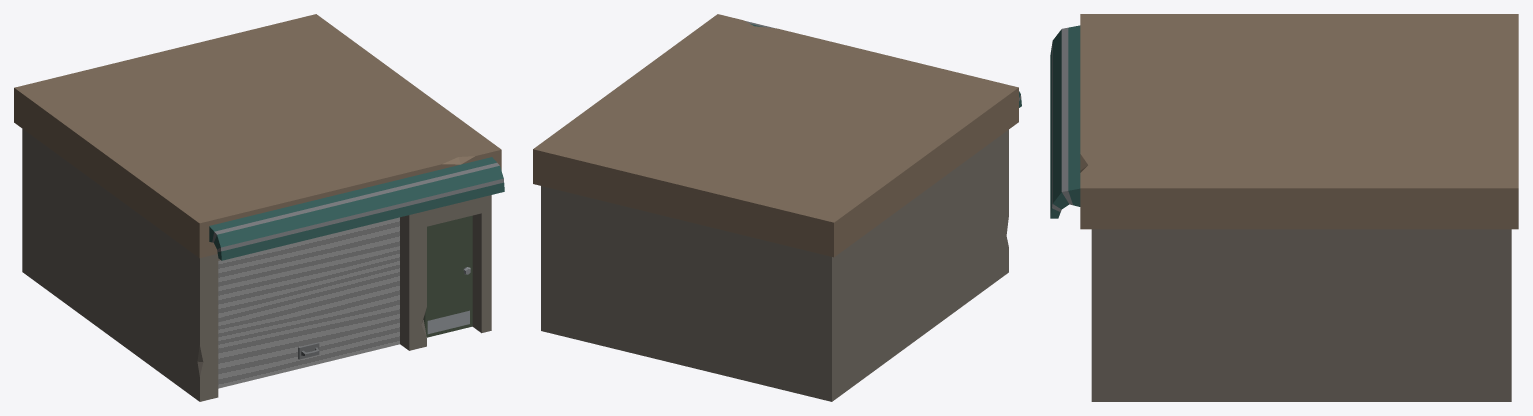
The model's file is shop_06.glb.
3 views of the same model, side by side, from view 1: azimuth 30°, elevation 25°; view 2: azimuth 150°, elevation 25°; view 3: azimuth 270°, elevation 25° (orthographic). The views are drawn at different scales.
Visible parts, largest first — view 1: SM_Bld_Shop_06; view 2: SM_Bld_Shop_06; view 3: SM_Bld_Shop_06.
Boxes of the visible parts, left/top/right/bottom form: SM_Bld_Shop_06: left=14, top=14, right=504, bottom=401; SM_Bld_Shop_06: left=533, top=14, right=1021, bottom=401; SM_Bld_Shop_06: left=1050, top=14, right=1518, bottom=401.
Bounding box in the file's own units: 5.18 × 3 × 5.88.
1 material, 1 textured.
